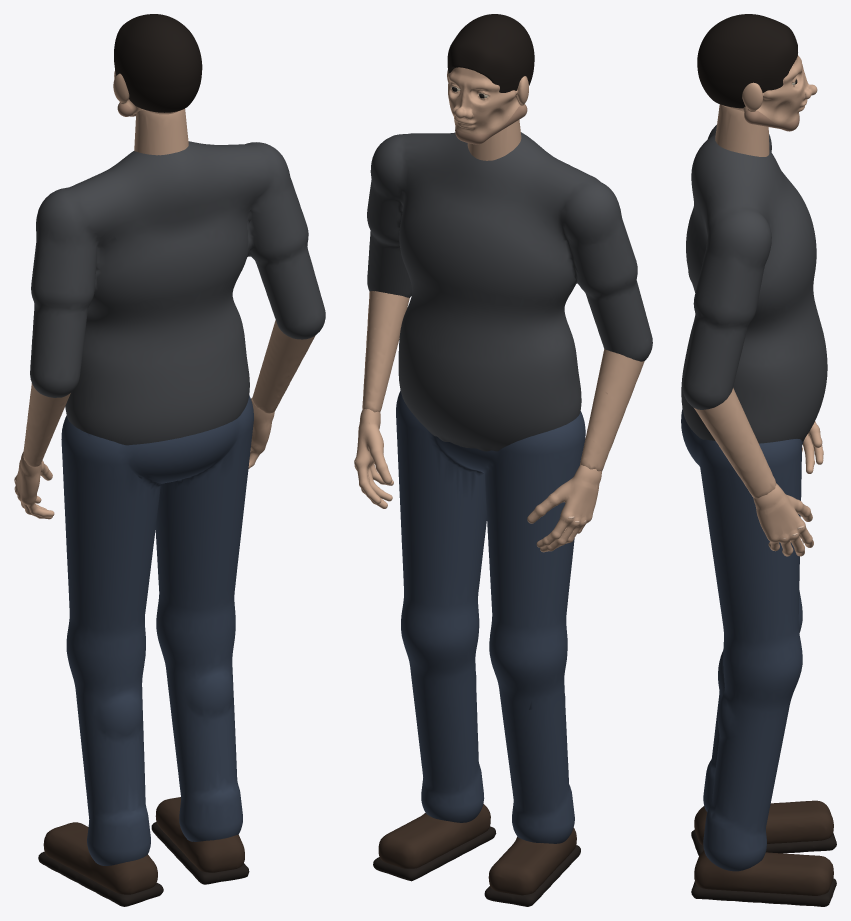
The model's file is him_card.glb.
3 views of the same model, side by side, from view 1: azimuth 30°, elevation 25°; view 2: azimuth 150°, elevation 25°; view 3: azimuth 270°, elevation 25° (orthographic).
Parts seen in each view (by area): view 1: him_card_body, him_card_head, him_card_hands; view 2: him_card_body, him_card_head, him_card_hands; view 3: him_card_body, him_card_head, him_card_hands.
Boxes of the visible parts, bbox=[...] form: him_card_body: bbox=[23, 109, 325, 906]; him_card_head: bbox=[113, 14, 202, 116]; him_card_hands: bbox=[14, 398, 274, 519]; him_card_body: bbox=[362, 120, 652, 906]; him_card_head: bbox=[447, 14, 534, 144]; him_card_hands: bbox=[354, 409, 601, 552]; him_card_body: bbox=[681, 104, 836, 906]; him_card_head: bbox=[697, 14, 817, 131]; him_card_hands: bbox=[753, 421, 823, 556].
Size of the model in its own units: 0.6745 by 1.93 by 0.3192.
